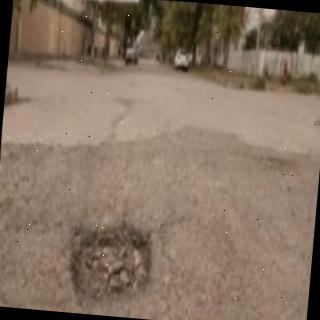pothole: (71, 226, 152, 301)
